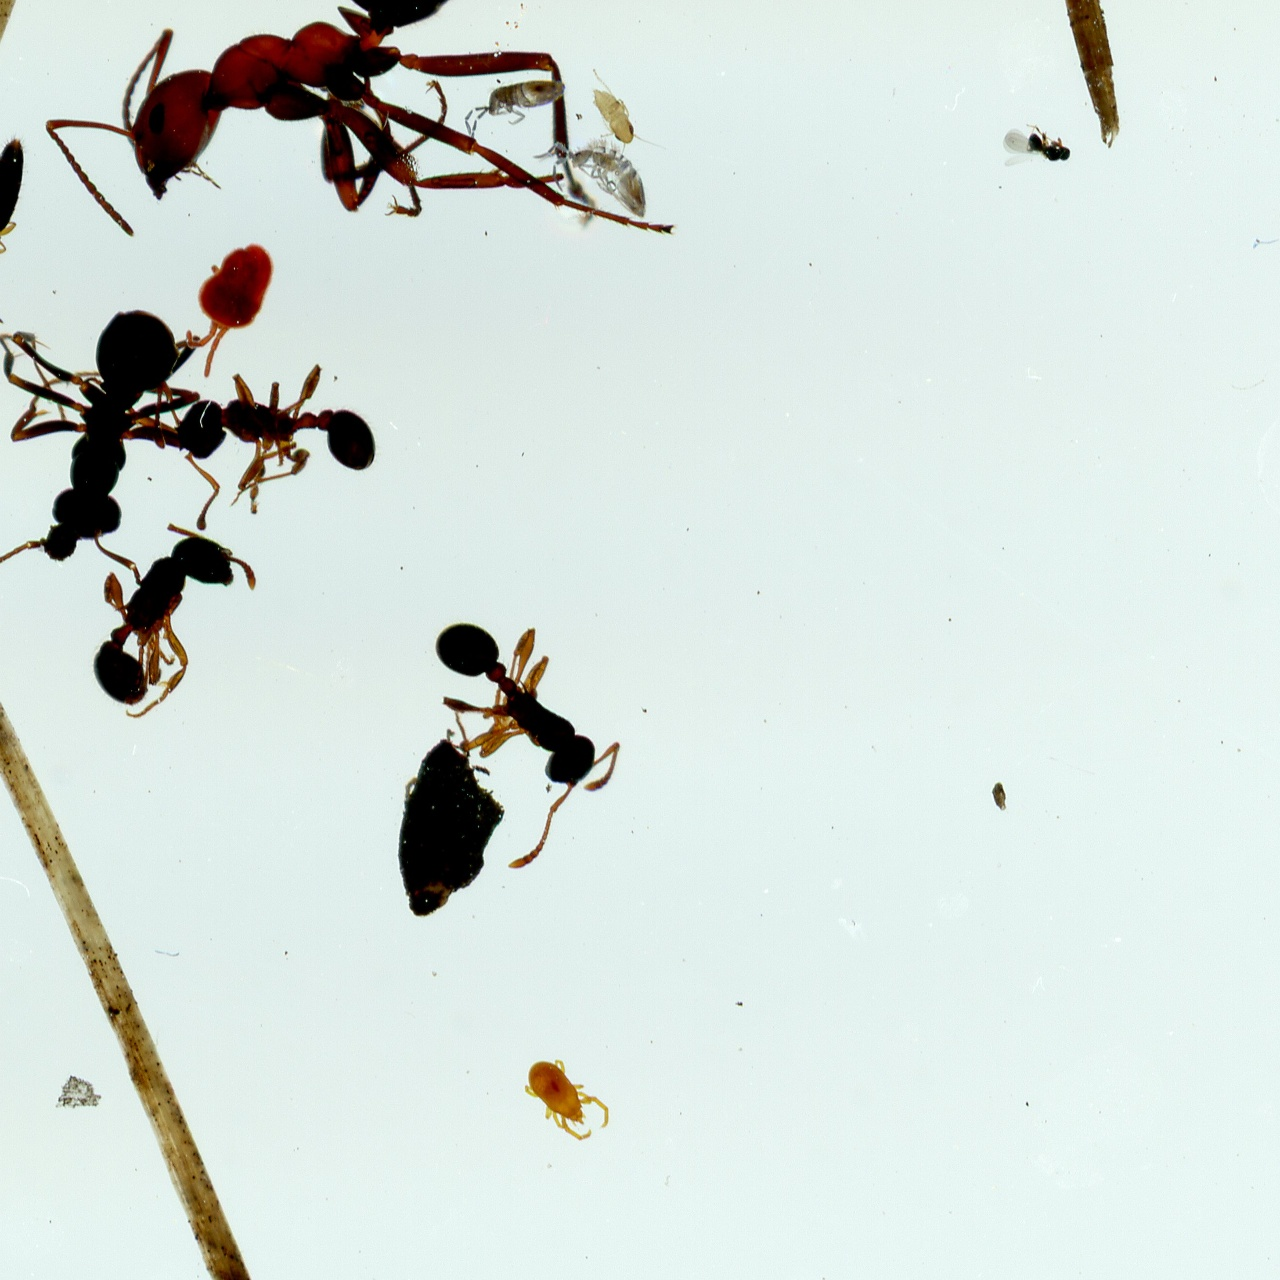arthropod: (30, 0, 743, 512), (357, 572, 665, 888), (0, 262, 226, 625), (27, 488, 279, 755), (155, 359, 384, 533), (174, 226, 288, 392), (508, 1040, 622, 1159), (569, 52, 673, 176), (0, 107, 55, 333), (530, 135, 650, 220), (463, 75, 567, 141), (994, 119, 1083, 188)
